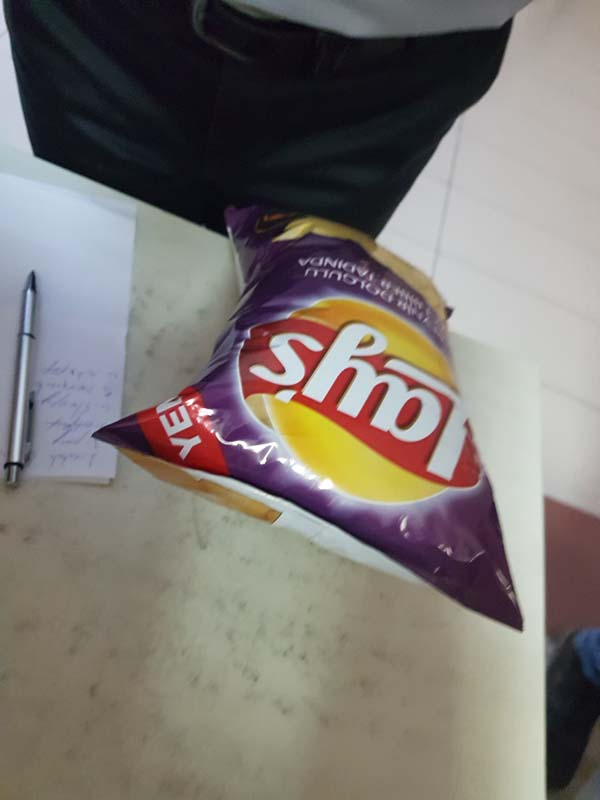layspeynirsoslu: (97, 199, 568, 628)
